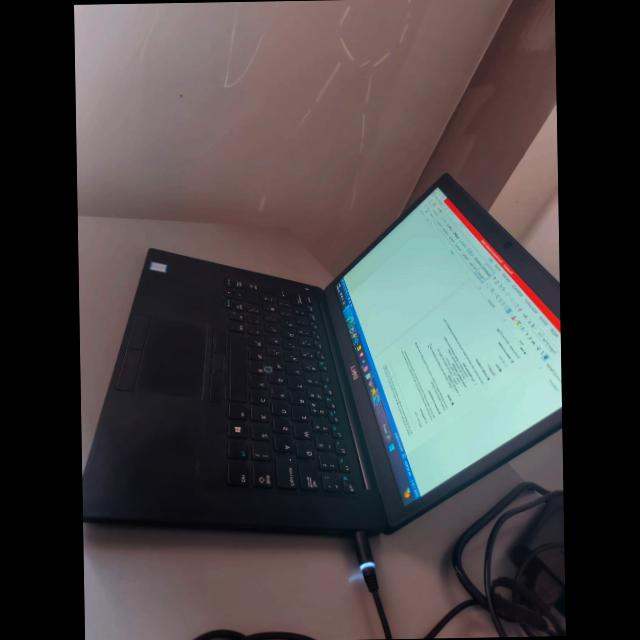laptop: (96, 170, 564, 542)
